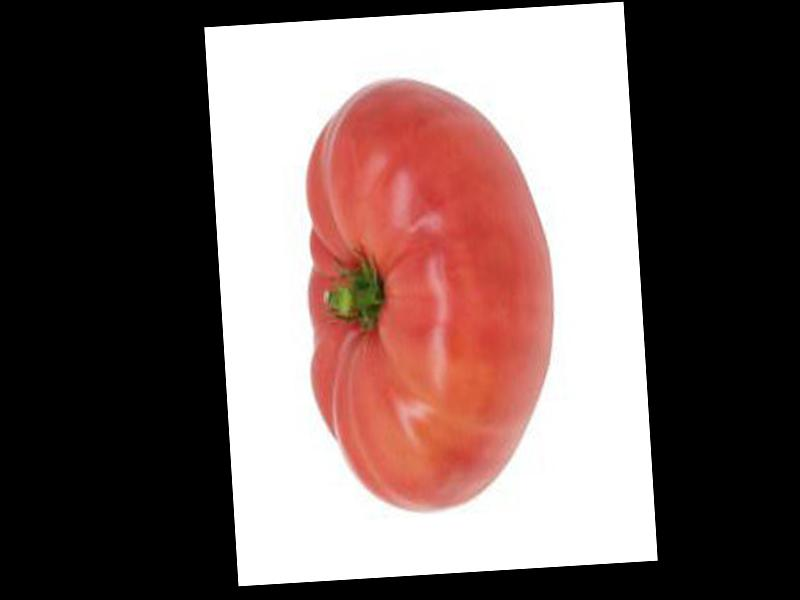Tomato: (299, 72, 563, 518)
